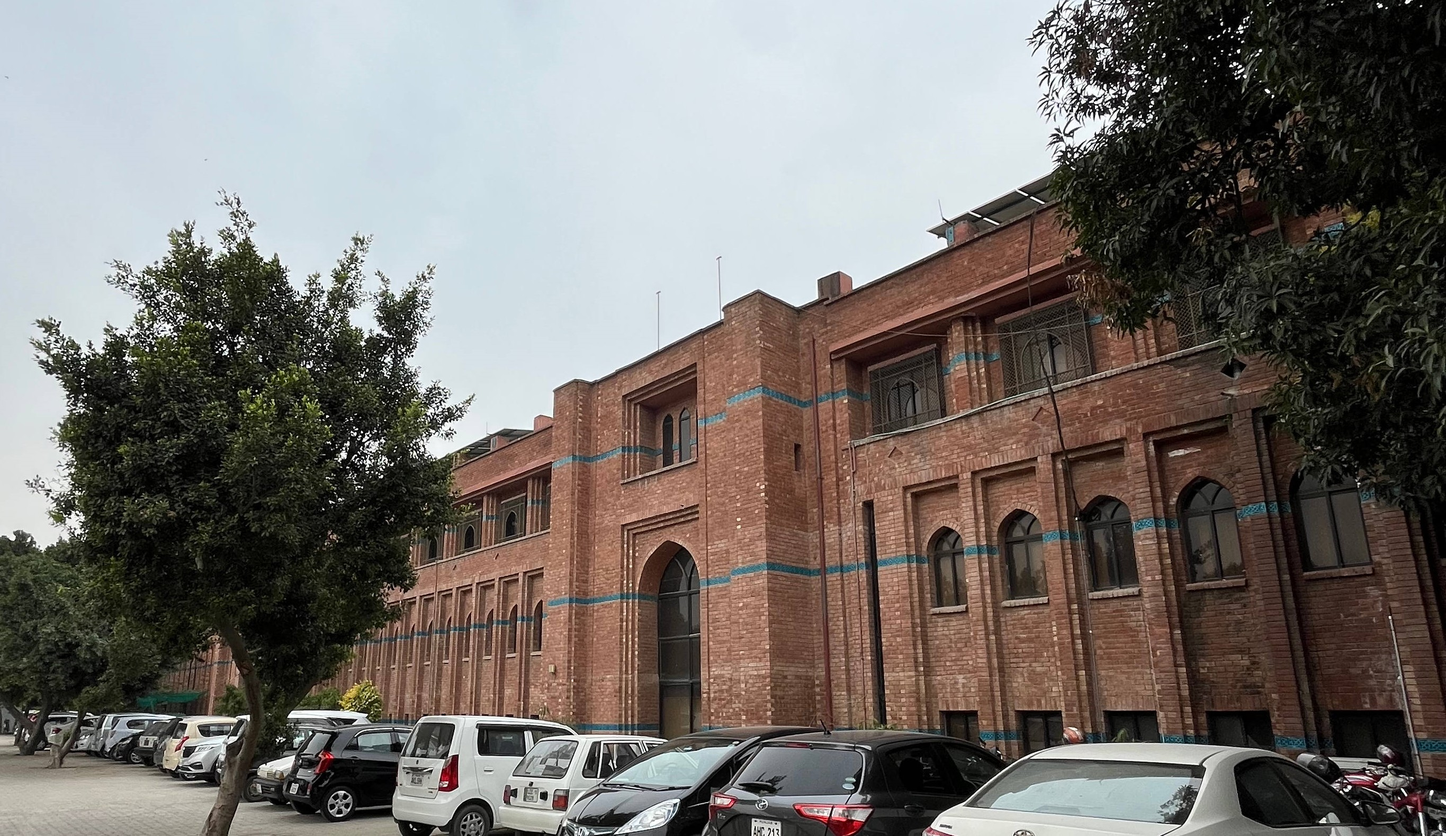Block D: (136, 226, 1446, 753)
